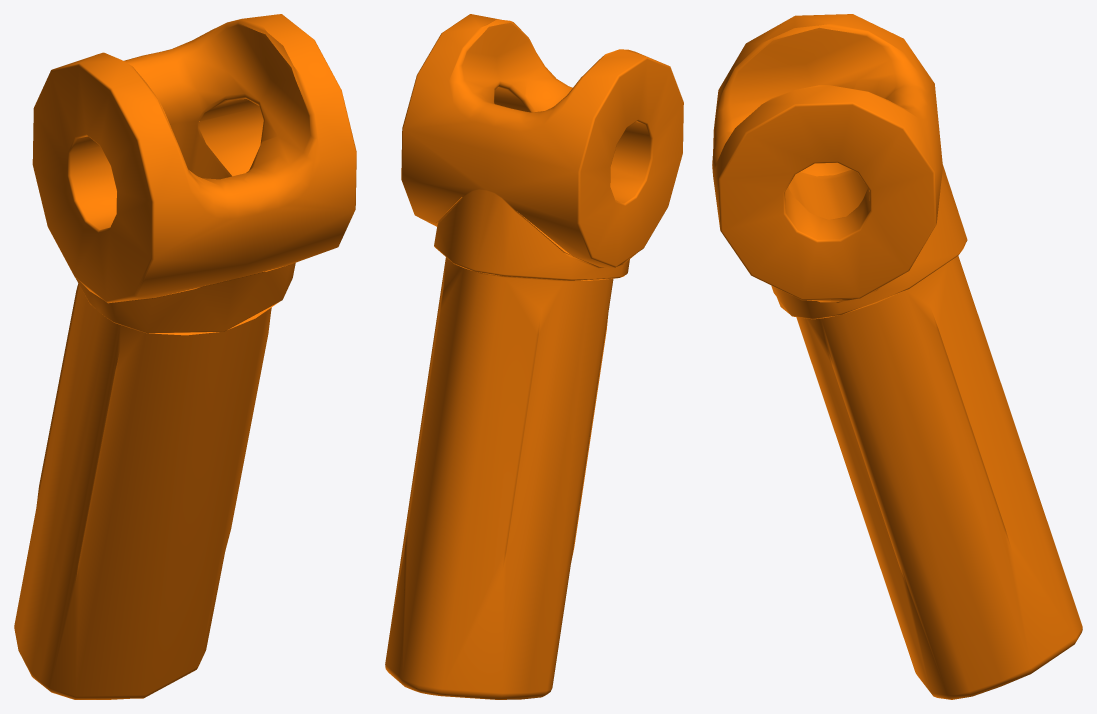
Rendered from original-13.obj.
The picture shows the model from 3 angles, left to right: view 1: azimuth 30°, elevation 25°; view 2: azimuth 150°, elevation 25°; view 3: azimuth 270°, elevation 25°; orthographic projection. The views are drawn at different scales.
Parts seen in each view (by area): view 1: mesh13/mesh13-geometry#mesh13-geometry; view 2: mesh13/mesh13-geometry#mesh13-geometry; view 3: mesh13/mesh13-geometry#mesh13-geometry.
Boxes of the visible parts, left/top/right/bottom form: mesh13/mesh13-geometry#mesh13-geometry: left=14, top=14, right=356, bottom=699; mesh13/mesh13-geometry#mesh13-geometry: left=385, top=14, right=683, bottom=699; mesh13/mesh13-geometry#mesh13-geometry: left=712, top=14, right=1082, bottom=699.
Bounding box in the file's own units: 0.0241 × 0.0778 × 0.0419.
